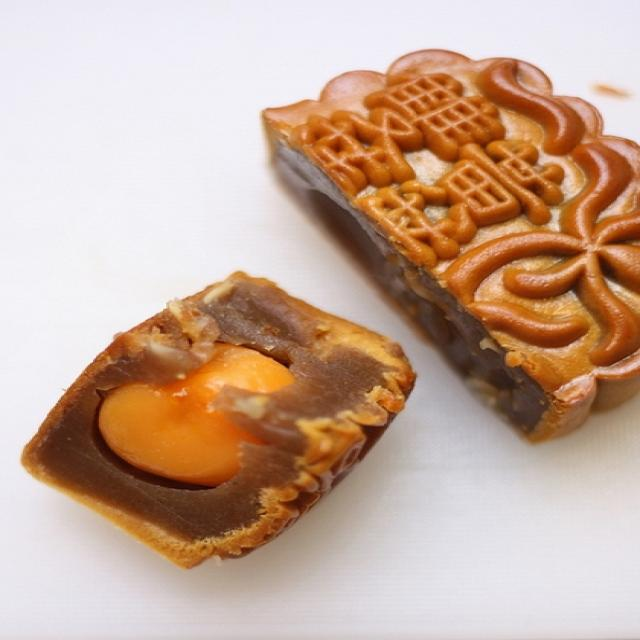蛋糕甜品: (69, 47, 636, 599)
